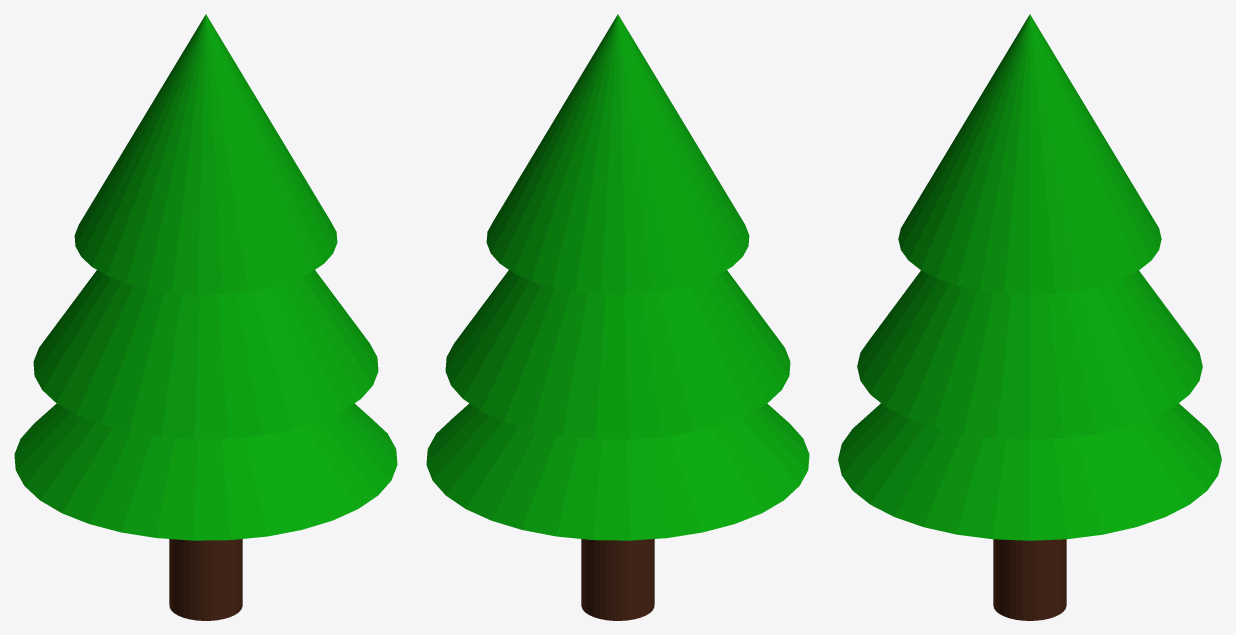
Rendered from tree.obj.
3 renders of one model, left to right at view 1: azimuth 30°, elevation 25°; view 2: azimuth 150°, elevation 25°; view 3: azimuth 270°, elevation 25°, orthographic.
Parts seen in each view (by area): view 1: Cylinder.001, Cylinder; view 2: Cylinder.001, Cylinder; view 3: Cylinder.001, Cylinder.
Part boxes in pixels (x1,y1,x2,y2): Cylinder.001: [14, 14, 397, 540]; Cylinder: [169, 539, 242, 620]; Cylinder.001: [426, 14, 809, 540]; Cylinder: [581, 539, 654, 620]; Cylinder.001: [838, 14, 1221, 540]; Cylinder: [993, 539, 1066, 620].
Size of the model in its own units: 1.53 by 2.6 by 1.53.
Materials: 2 (2 with a texture image).
